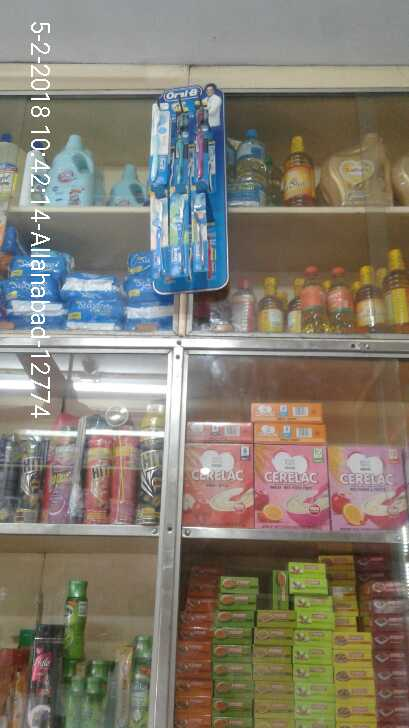oralb: (150, 190, 170, 282), (171, 103, 193, 183), (190, 190, 210, 274), (171, 189, 189, 282), (150, 104, 168, 183), (194, 98, 209, 184)
